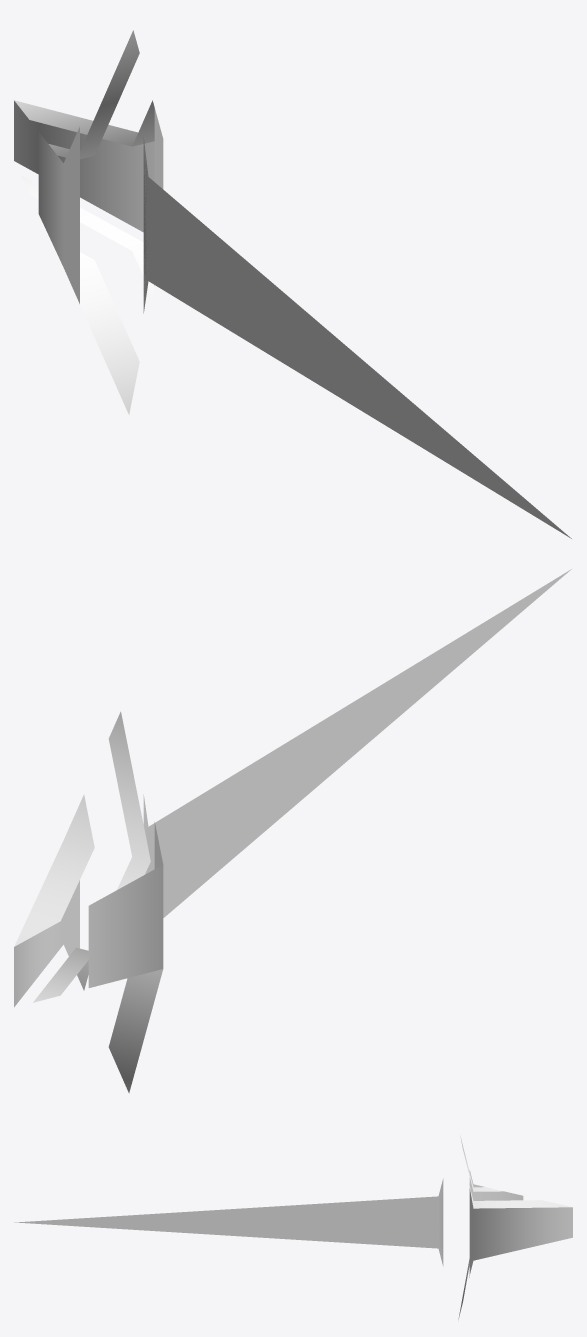
Rendered from SHandWeapon_R.FBX.
3 renders of one model, top to bottom at view 1: azimuth 30°, elevation 25°; view 2: azimuth 150°, elevation 25°; view 3: azimuth 270°, elevation 25°, orthographic. The views are drawn at different scales.
Visible parts, largest first — view 1: RWeapon; view 2: RWeapon; view 3: RWeapon.
Boxes of the visible parts, x1,y1,x2,y2 form: RWeapon: (14,30,571,538); RWeapon: (14,569,571,1093); RWeapon: (14,1136,572,1319).
Bounding box in the file's own units: 2.35 × 9.04 × 22.82.
1 material, 1 textured.
